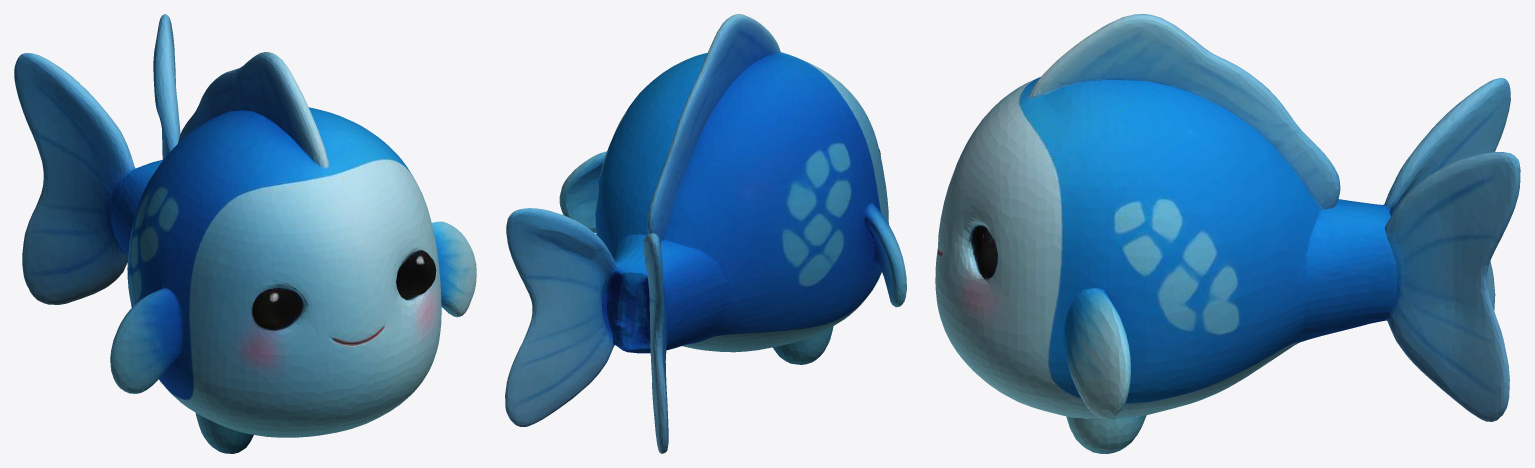
The model's file is fish.glb.
3 renders of one model, left to right at view 1: azimuth 30°, elevation 25°; view 2: azimuth 150°, elevation 25°; view 3: azimuth 270°, elevation 25°, orthographic. The views are drawn at different scales.
Parts seen in each view (by area): view 1: geometry_0; view 2: geometry_0; view 3: geometry_0.
Boxes of the visible parts, x1,y1,x2,y2 form: geometry_0: (14,14,476,453); geometry_0: (505,14,906,453); geometry_0: (935,14,1520,453).
Bounding box in the file's own units: 0.7921 × 0.76 × 0.9998.
Materials: 1 (1 with a texture image).
